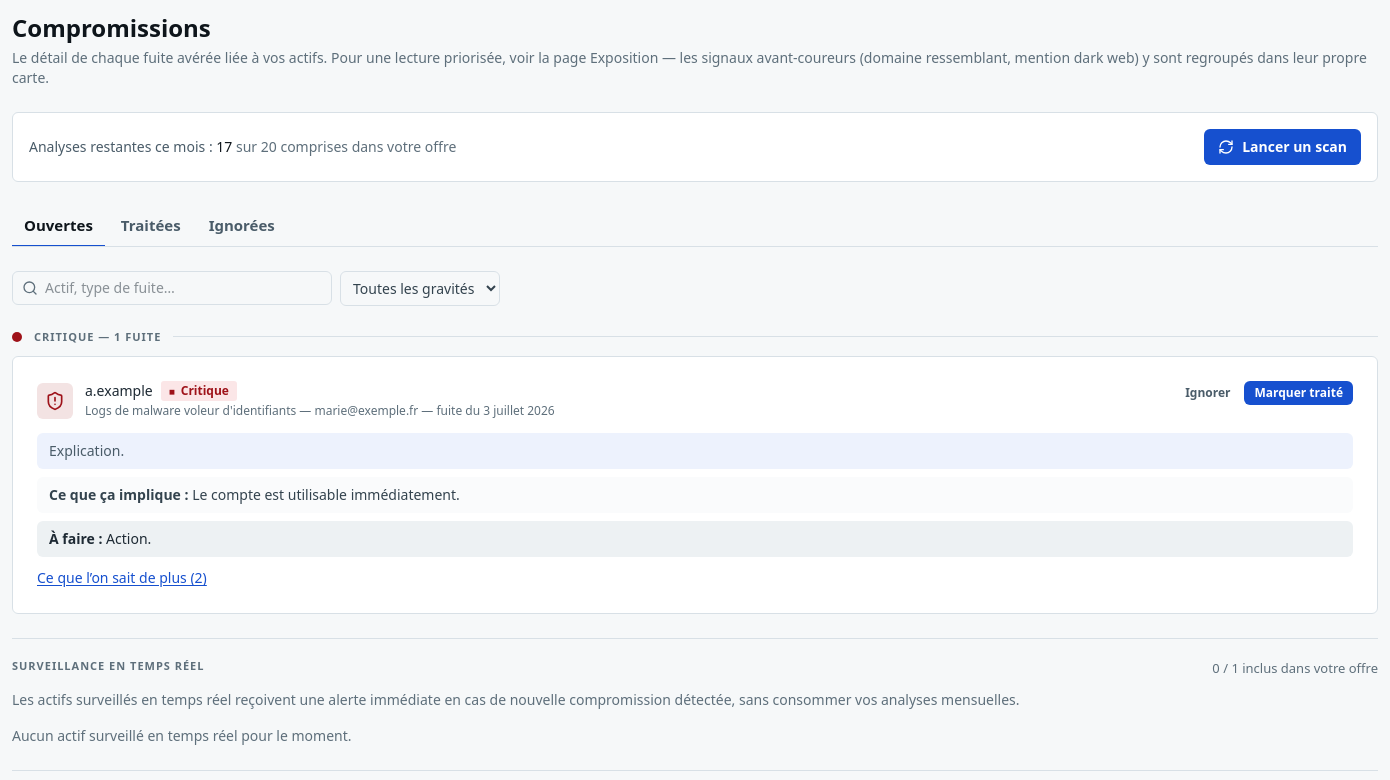
it: CompromisesPage › restitue les champs de la source avec leur libellé et ce qu’ils impliquent
Expected: the text "Raccoon" is not shown
Click the button "Ce que l’on sait de plus (2)" at (122, 578), box [37,568,207,588]
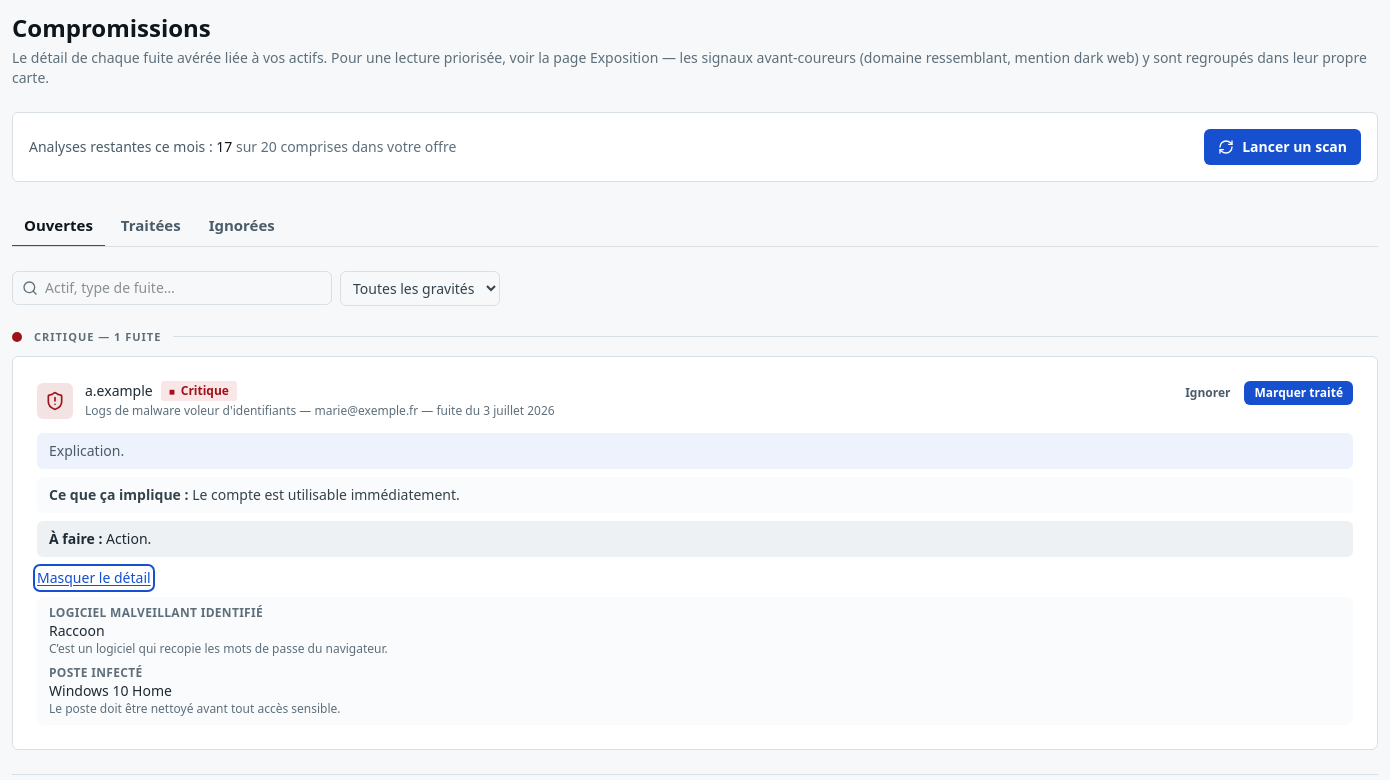
Result: the text "Logiciel malveillant identifié" is shown at [49,604,263,621]
Result: the text "Raccoon" is shown at [49,621,105,640]
Result: the text "C’est un logiciel qui recopie les mots de passe du navigateur." is shown at [49,640,388,657]
